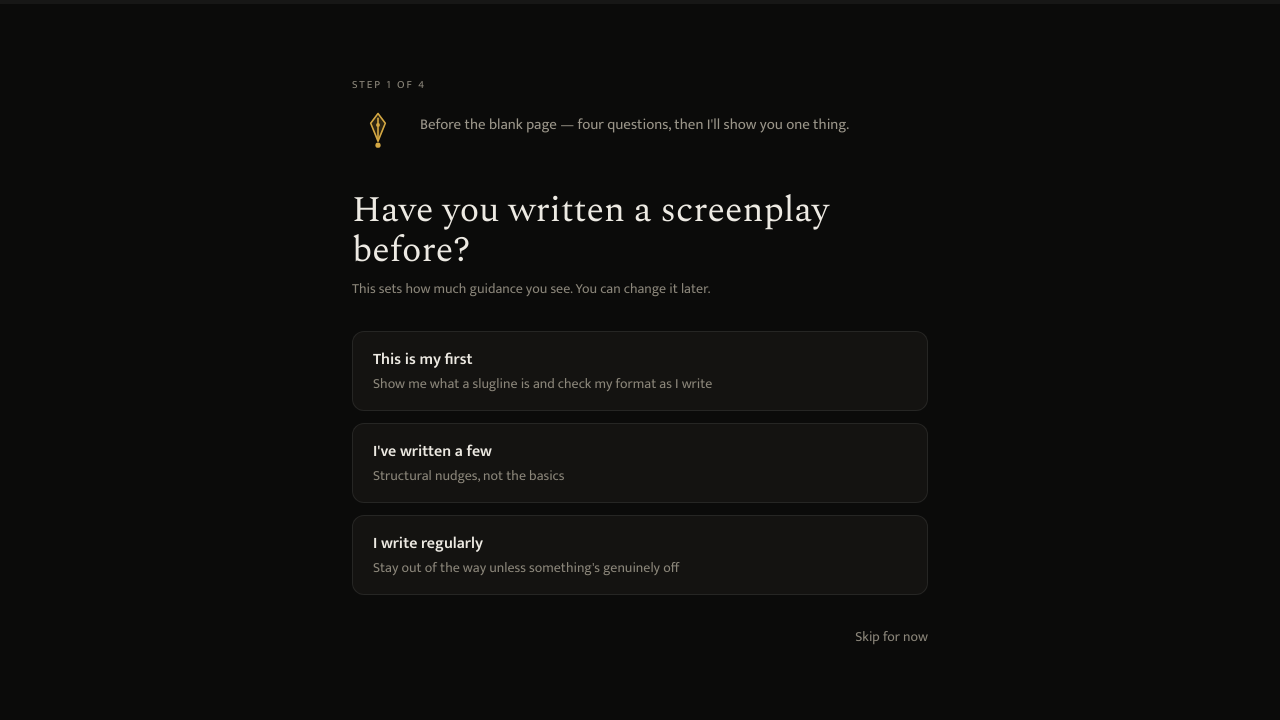
finishing › teaches the first lesson instead of dropping them at a blank page
This screenshot has width=1280, height=720.
Click the text "This is my first".
click(423, 360)  # box [373,346,473,373]
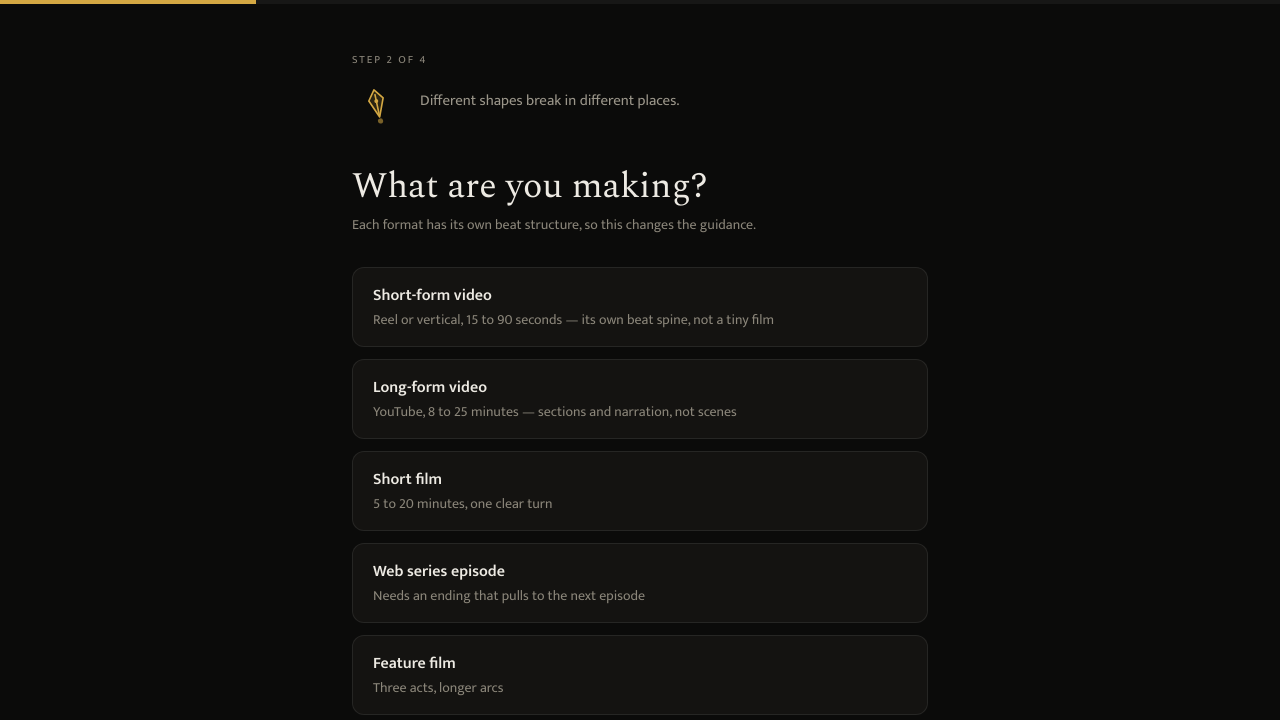
Click the text "Short film".
click(408, 479)  # box [373,466,442,492]
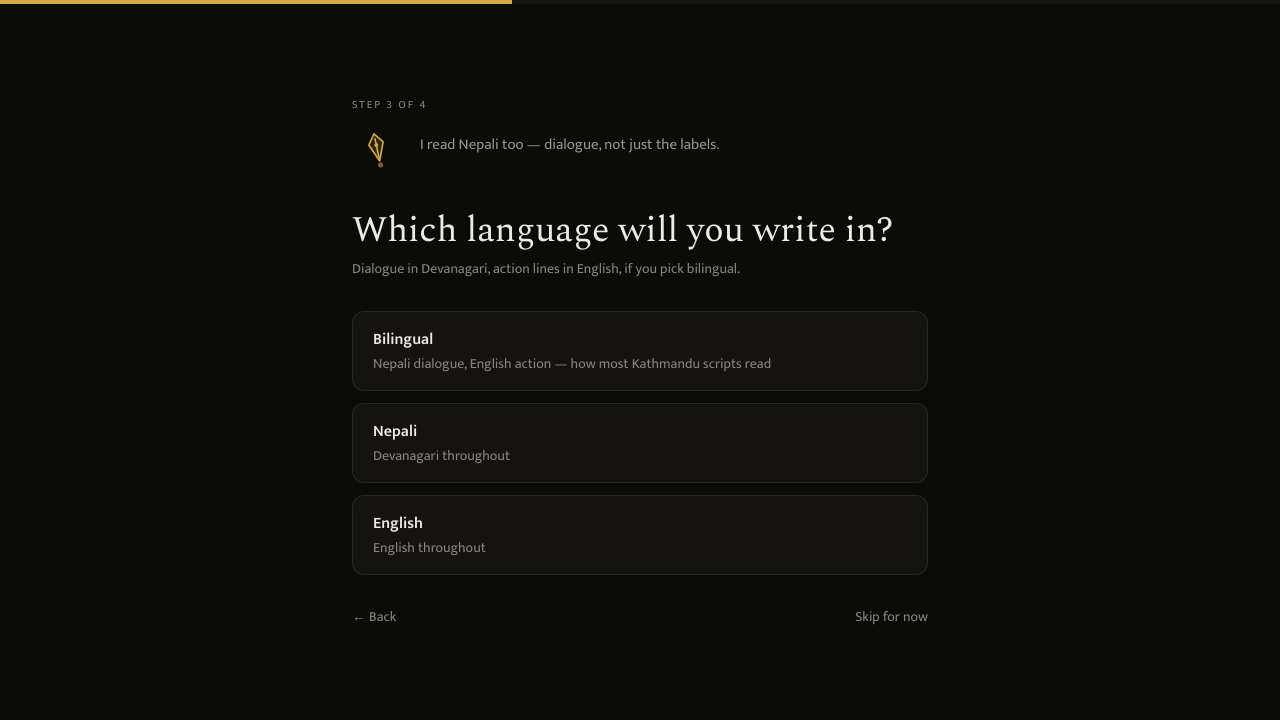
Click the text "Bilingual".
click(403, 340)  # box [373,326,433,353]
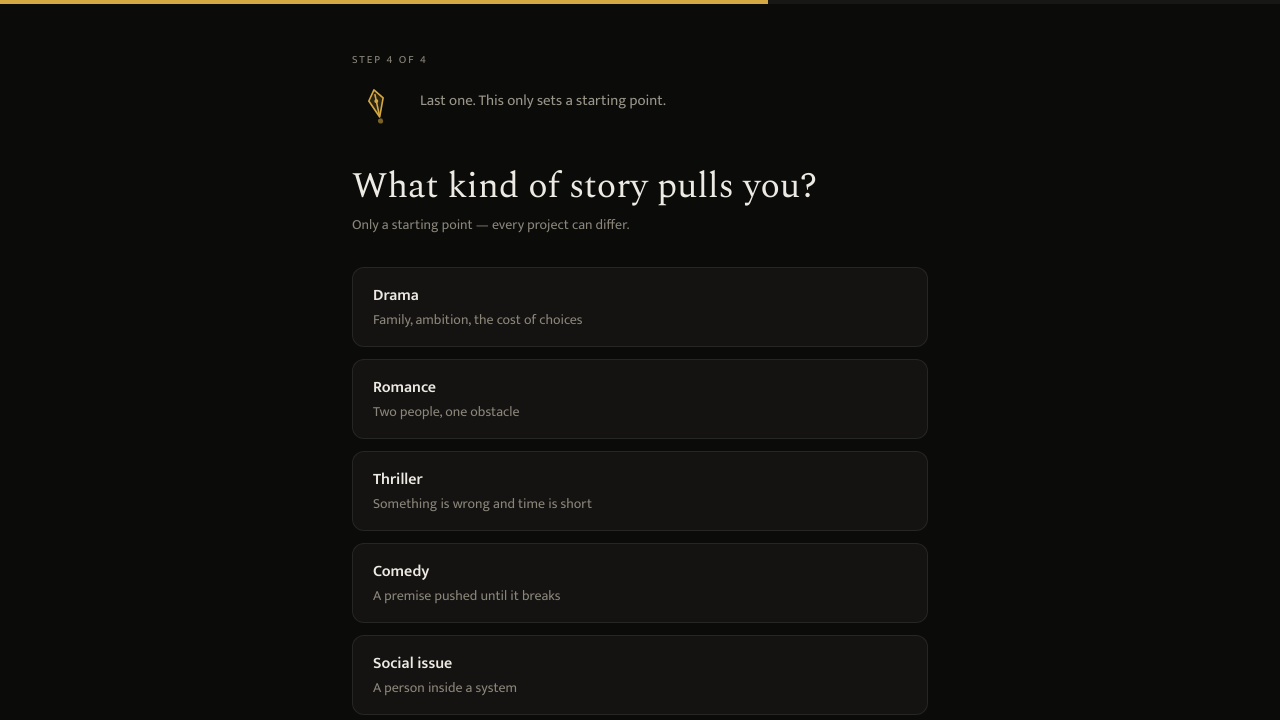
Click the text "Drama".
click(396, 295)  # box [373,282,419,308]
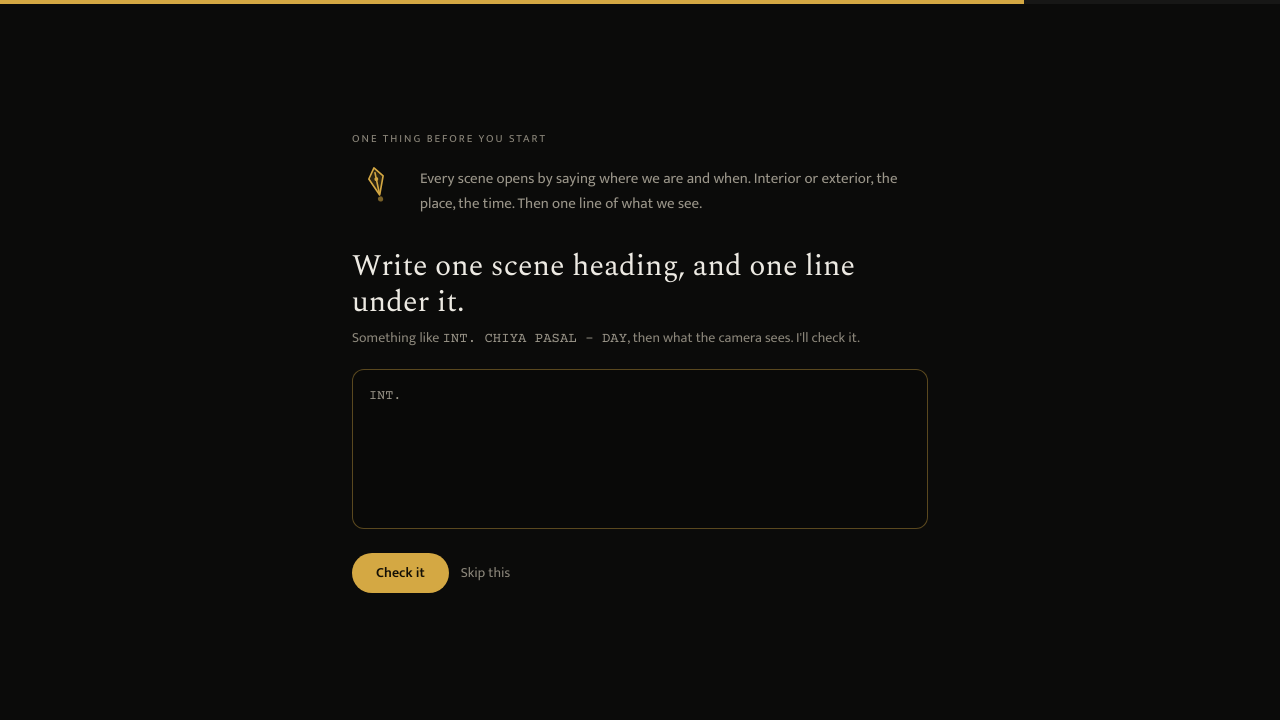
Expected: the heading "Write one scene heading, and one line under it." is shown, [352,248,928,320]
